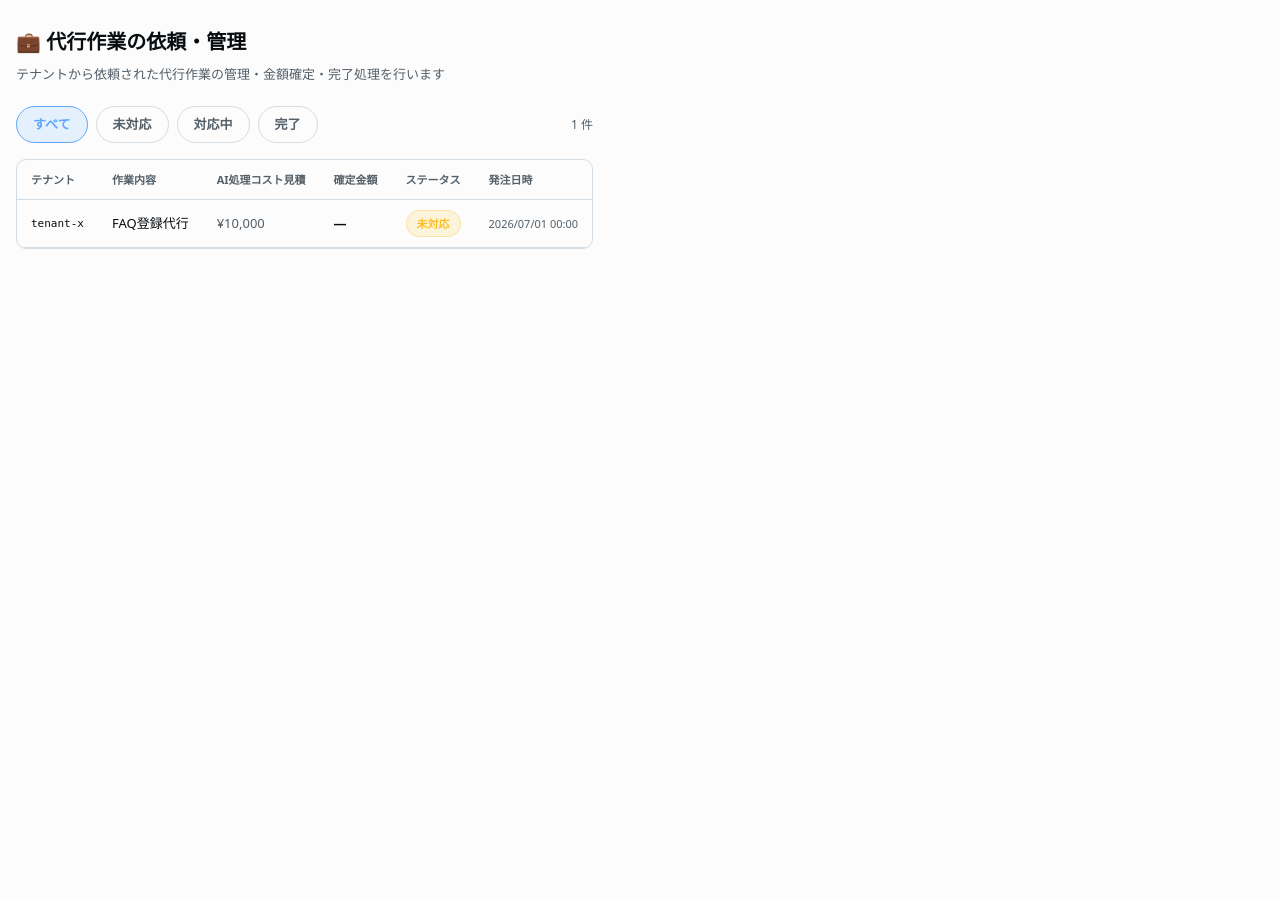
OptionManagementPage — Sai(Agent S)セクション › 依頼するとtry-saiを叩き、以後sai-taskをポーリングして状態を表示する
This screenshot has width=1280, height=900.
Click the text "FAQ登録代行". click: (150, 223)
box: [112,214,189,232]
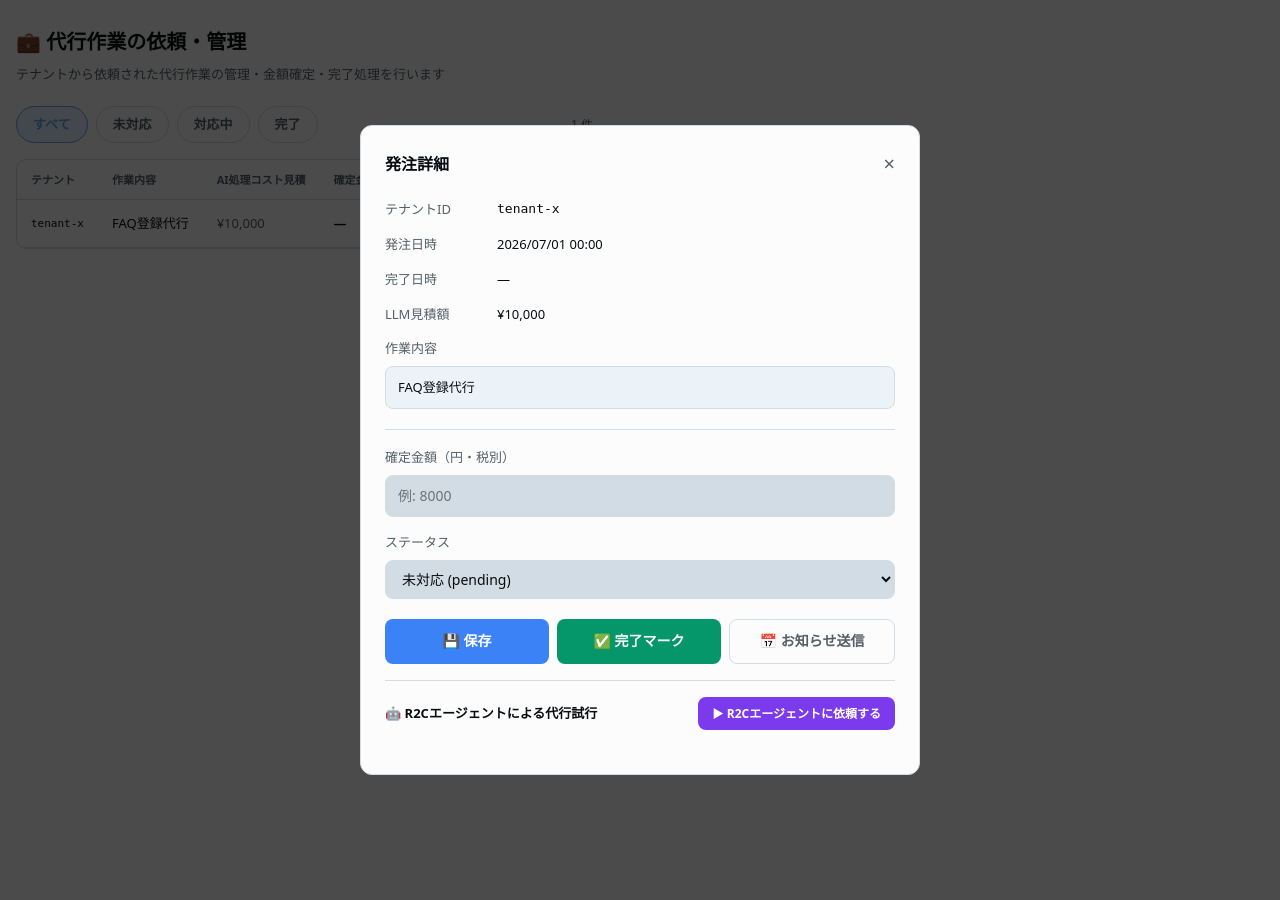
expect the button "▶ R2Cエージェントに依頼する" is shown: met
Click the button "▶ R2Cエージェントに依頼する". click: (797, 713)
box: [698,696,895,730]
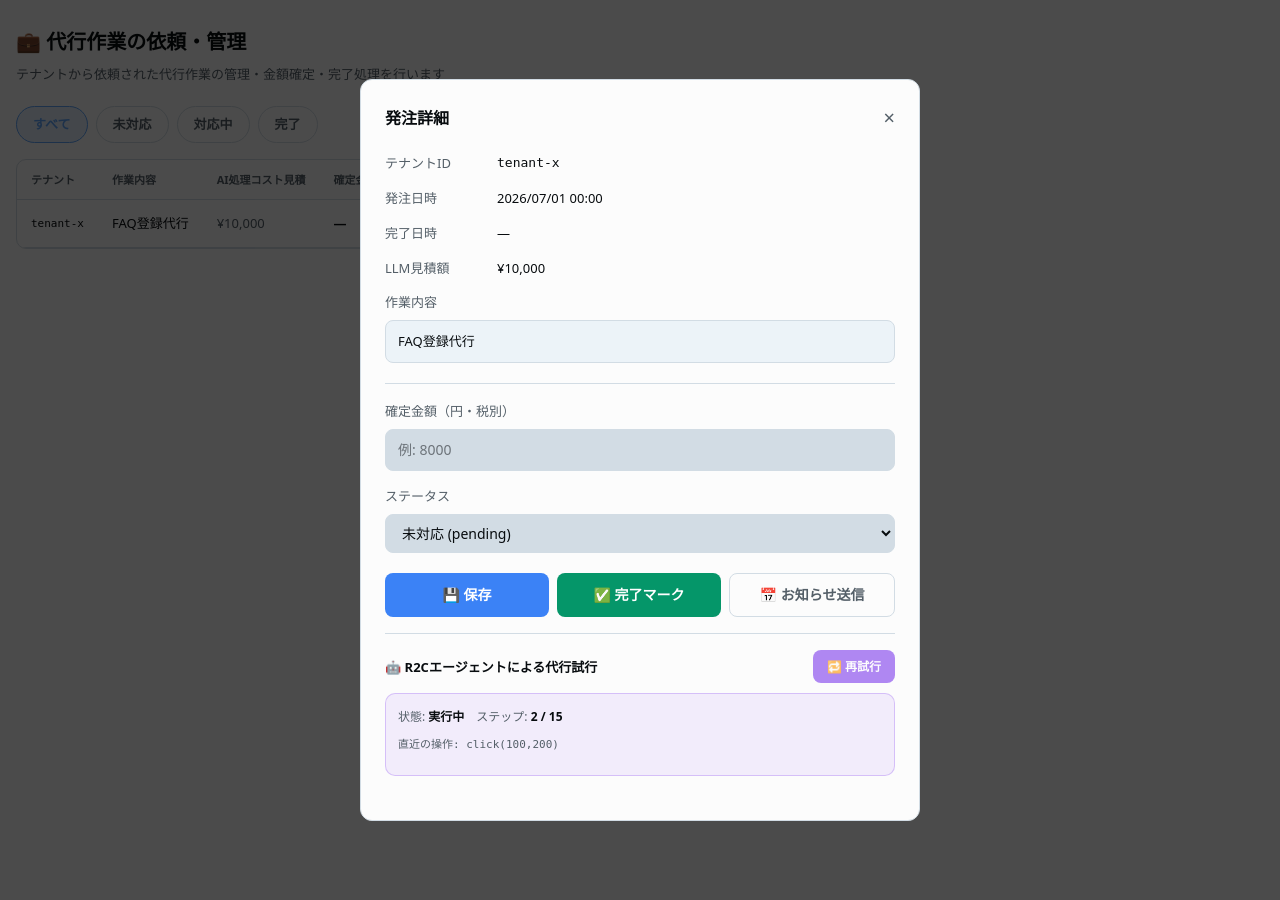
expect the text "実行中" is shown: met, box [428,708,464,725]
expect the text "直近の操作: click(100,200)" is shown: met, box [398,738,559,751]
